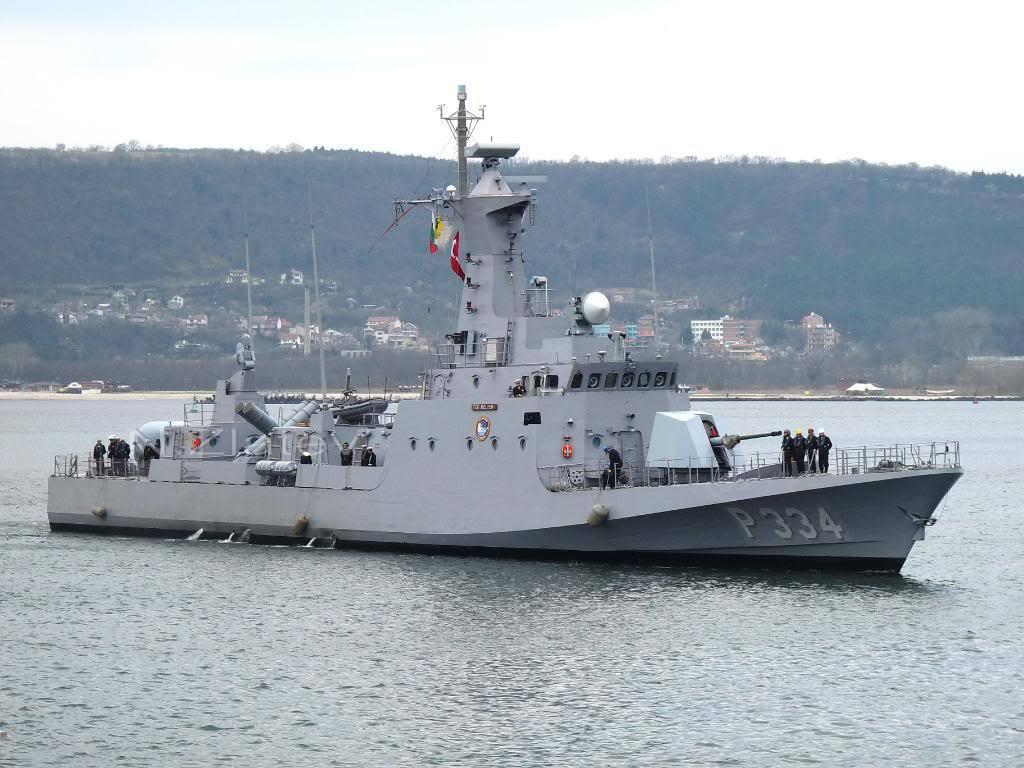Warship: (36, 80, 974, 586)
